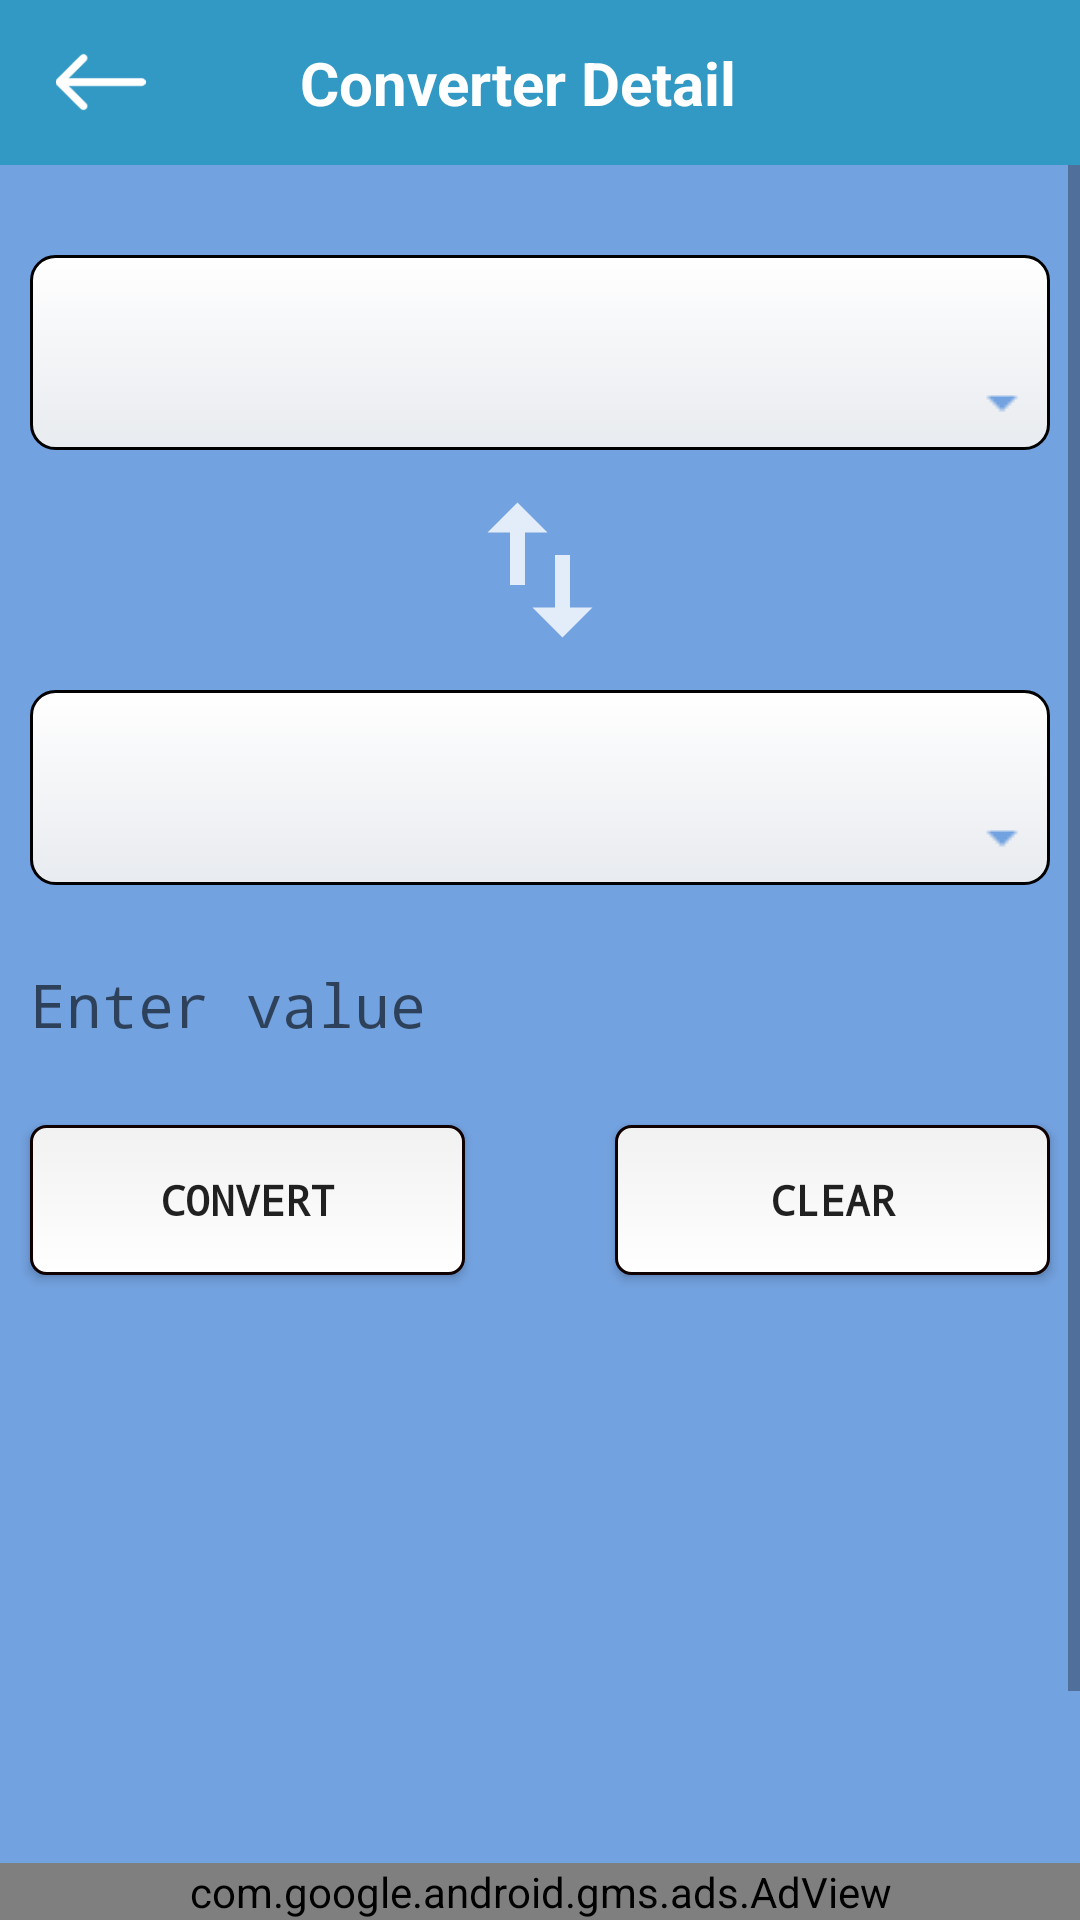

Icons on this 1080*1920 Android screen, each with the point to tap as point (x, y):
import export: point (540, 570)
left arrow: point (101, 82)
